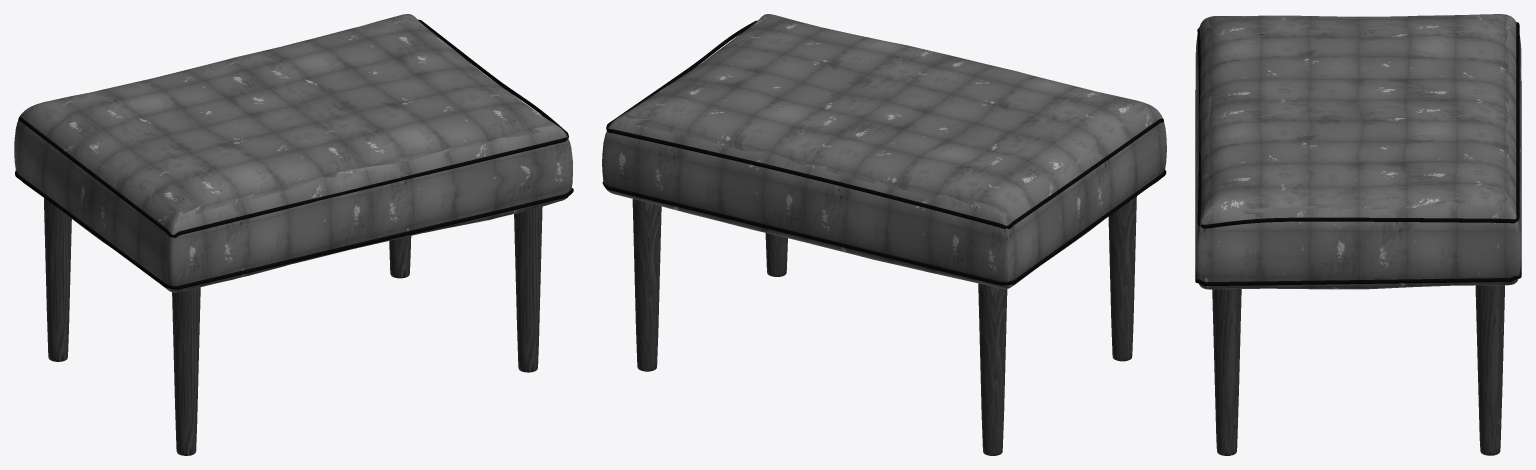
The model's file is PoltroncinaT (1).fbx.
3 views of the same model, side by side, from view 1: azimuth 30°, elevation 25°; view 2: azimuth 150°, elevation 25°; view 3: azimuth 270°, elevation 25° (orthographic). The views are drawn at different scales.
Visible parts, largest first — view 1: Poltroncina.001; view 2: Poltroncina.001; view 3: Poltroncina.001.
Part boxes in pixels (bbox=[...]): Poltroncina.001: bbox=[14, 14, 573, 455]; Poltroncina.001: bbox=[602, 14, 1166, 455]; Poltroncina.001: bbox=[1195, 14, 1521, 455].
Size of the model in its own units: 111 by 67.92 by 75.12.
6 materials, 5 textured.
